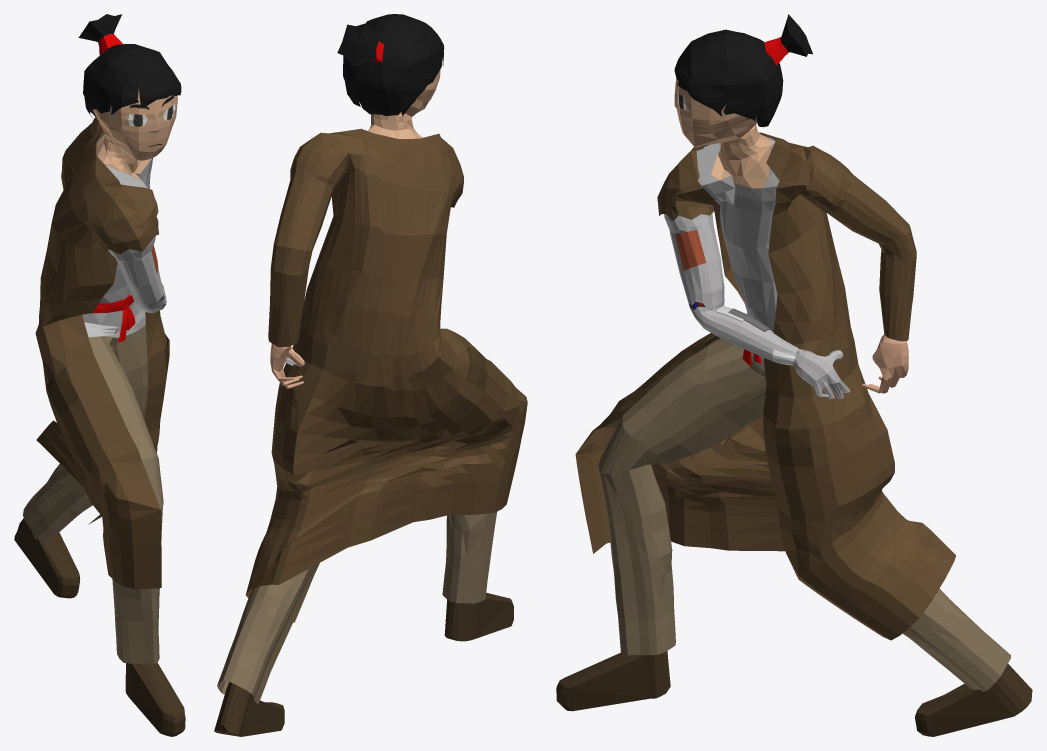
File: OneAnimationTest_000023.obj
3 renders of one model, left to right at view 1: azimuth 30°, elevation 25°; view 2: azimuth 150°, elevation 25°; view 3: azimuth 270°, elevation 25°, orthographic. The views are drawn at different scales.
Visible parts, largest first — view 1: Jacket_Cube, Body_Cube.003, Hair_Cube.004; view 2: Jacket_Cube, Body_Cube.003, Hair_Cube.004; view 3: Jacket_Cube, Body_Cube.003, Hair_Cube.004.
Part boxes in pixels (x1,y1,x2,y2): Jacket_Cube: (35,117,169,589); Body_Cube.003: (14,88,185,736); Hair_Cube.004: (78,14,181,118); Jacket_Cube: (246,128,527,622); Body_Cube.003: (214,69,513,736); Hair_Cube.004: (337,14,444,116); Jacket_Cube: (575,132,955,640); Body_Cube.003: (556,78,1032,736); Hair_Cube.004: (674,14,812,126).
Size of the model in its own units: 0.9013 by 3.68 by 2.25.
